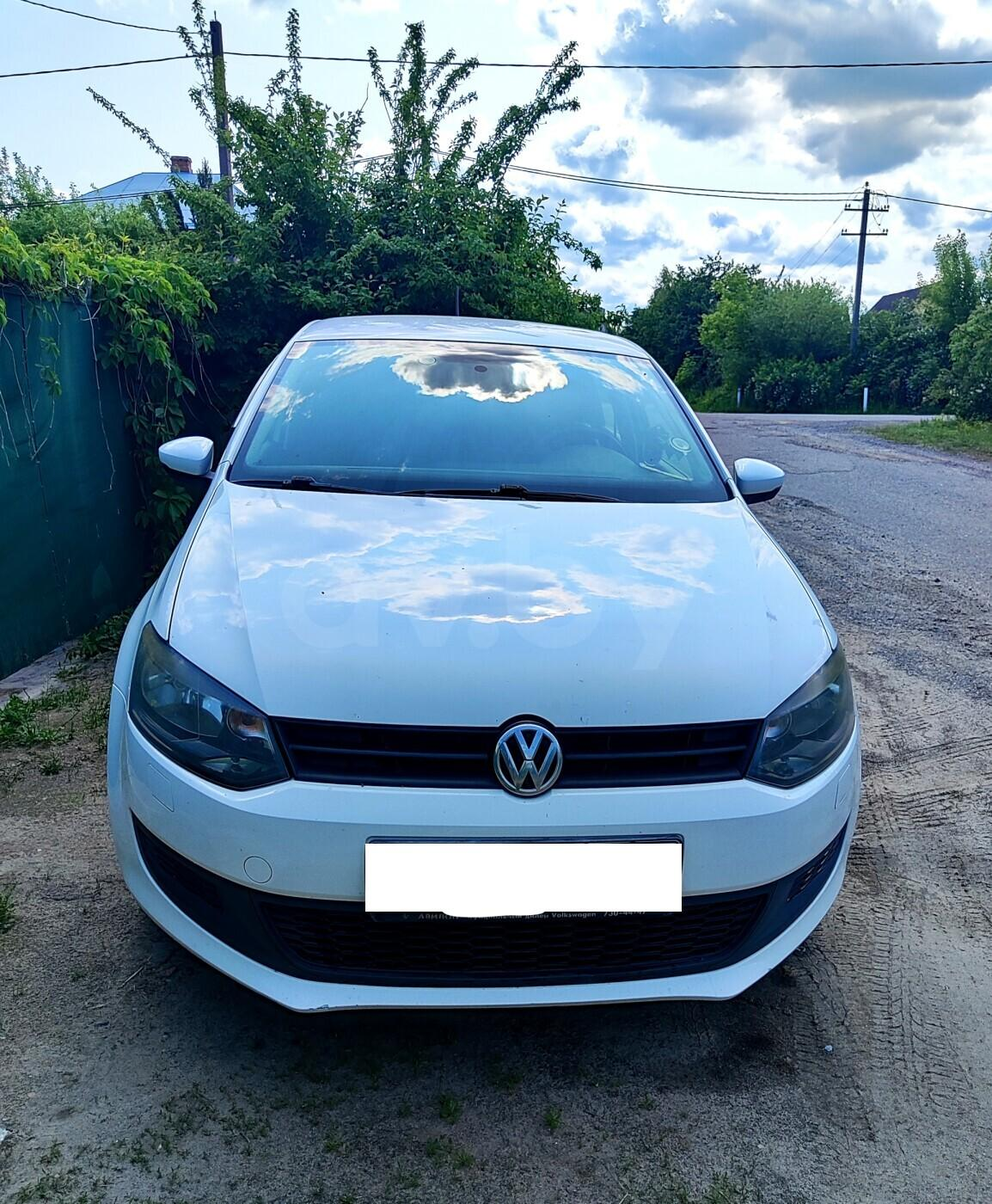Polo_2009-2015: (62, 295, 873, 1049)
